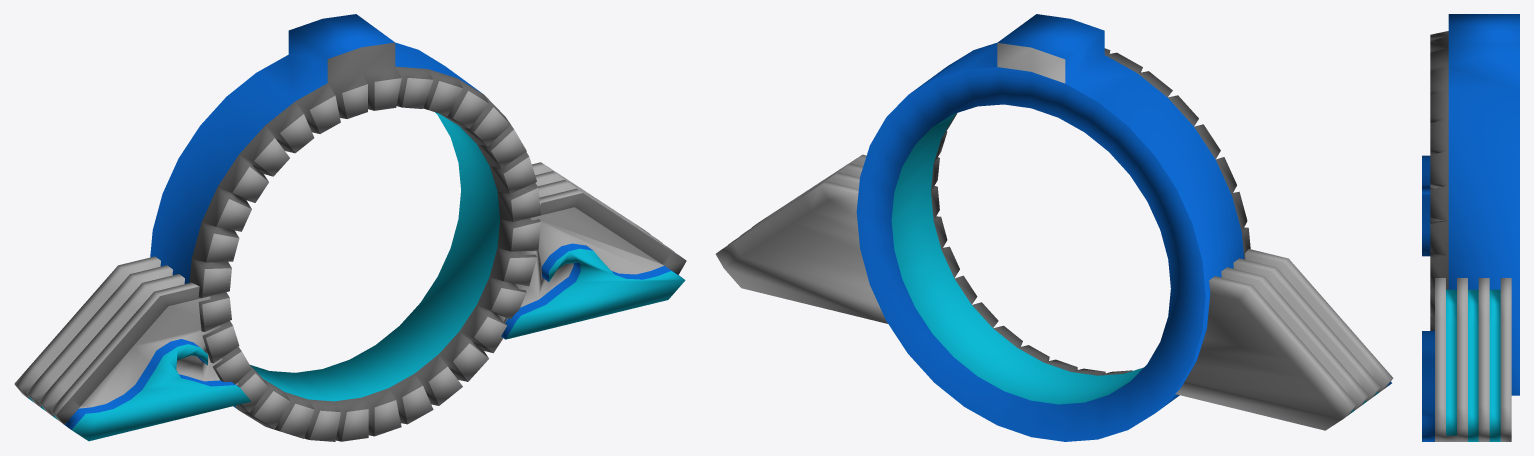
Rendered from portal.fbx.
3 views of the same model, side by side, from view 1: azimuth 30°, elevation 25°; view 2: azimuth 150°, elevation 25°; view 3: azimuth 270°, elevation 25° (orthographic). The views are drawn at different scales.
Parts seen in each view (by area): view 1: Circle; view 2: Circle; view 3: Circle.
Part boxes in pixels (x1,y1,x2,y2): Circle: (14, 14, 686, 441); Circle: (715, 14, 1393, 441); Circle: (1422, 14, 1519, 441).
Size of the model in its own units: 364 by 213 by 53.57.
